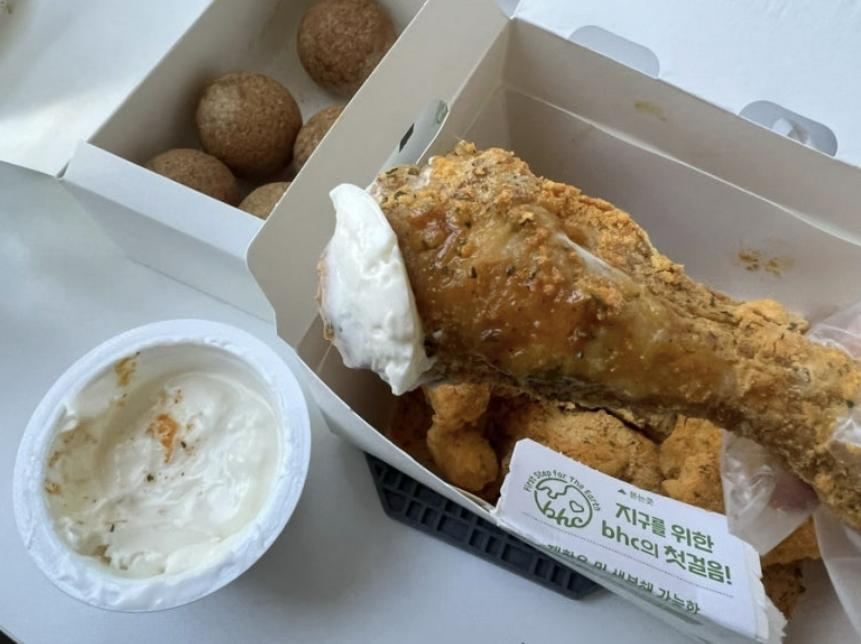Lunch Box: (247, 0, 860, 643), (0, 0, 423, 318), (13, 320, 310, 611)
